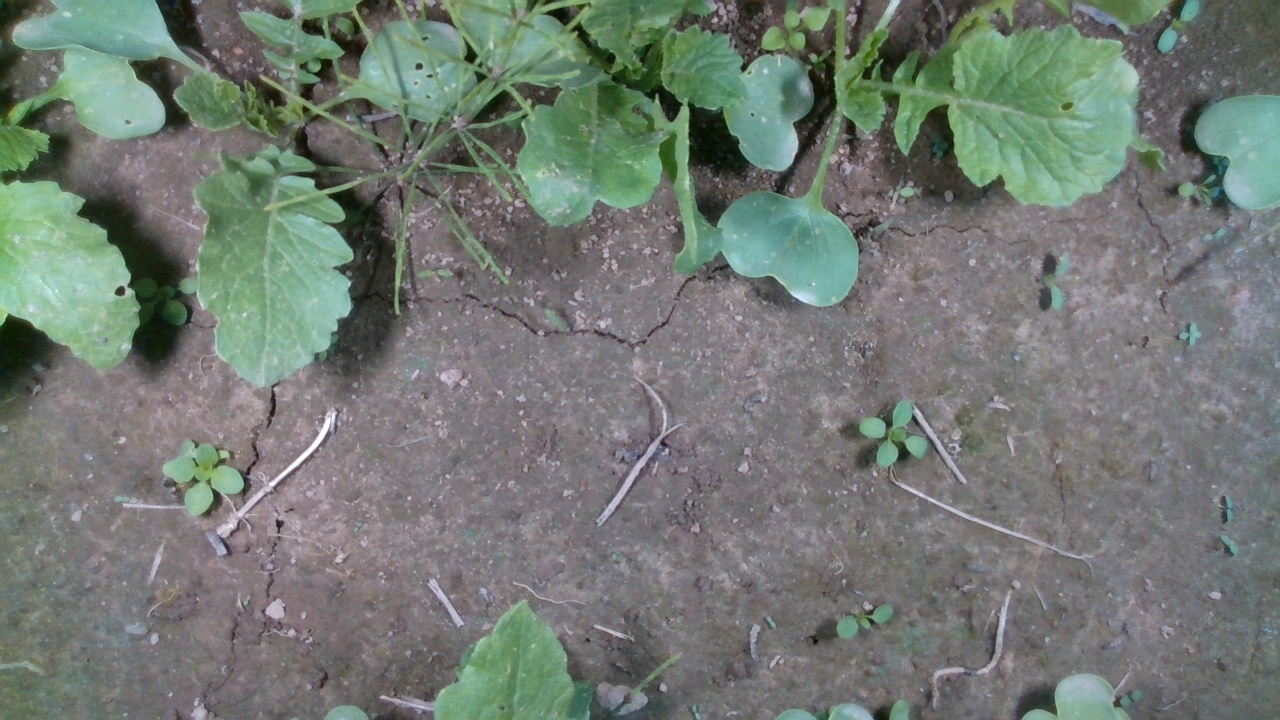weed: (857, 395, 930, 471), (833, 600, 893, 640), (1046, 251, 1072, 313), (1175, 318, 1201, 347)
